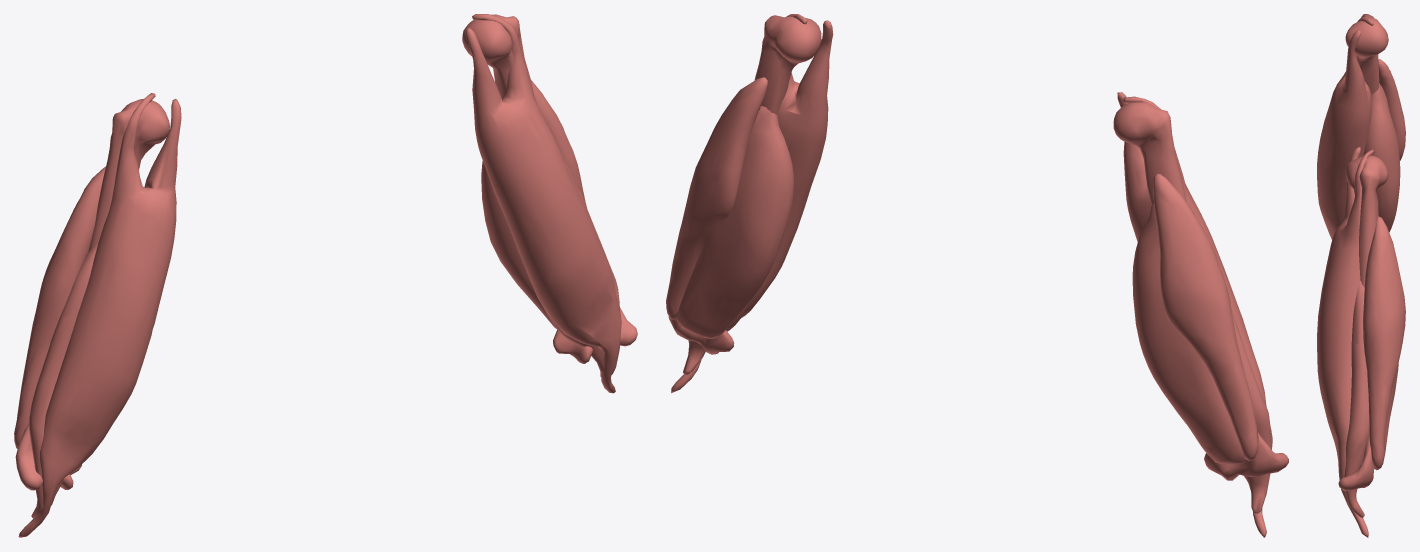
Rendered from arm.glb.
3 renders of one model, left to right at view 1: azimuth 30°, elevation 25°; view 2: azimuth 150°, elevation 25°; view 3: azimuth 270°, elevation 25°, orthographic. The views are drawn at different scales.
Visible parts, largest first — view 1: arm__selectable; view 2: arm__selectable; view 3: arm__selectable.
Boxes of the visible parts, x1,y1,x2,y2 form: arm__selectable: [14, 14, 637, 537]; arm__selectable: [666, 14, 1288, 537]; arm__selectable: [1317, 14, 1405, 537].
Size of the model in its own units: 5.16 by 3.3 by 0.7936.
